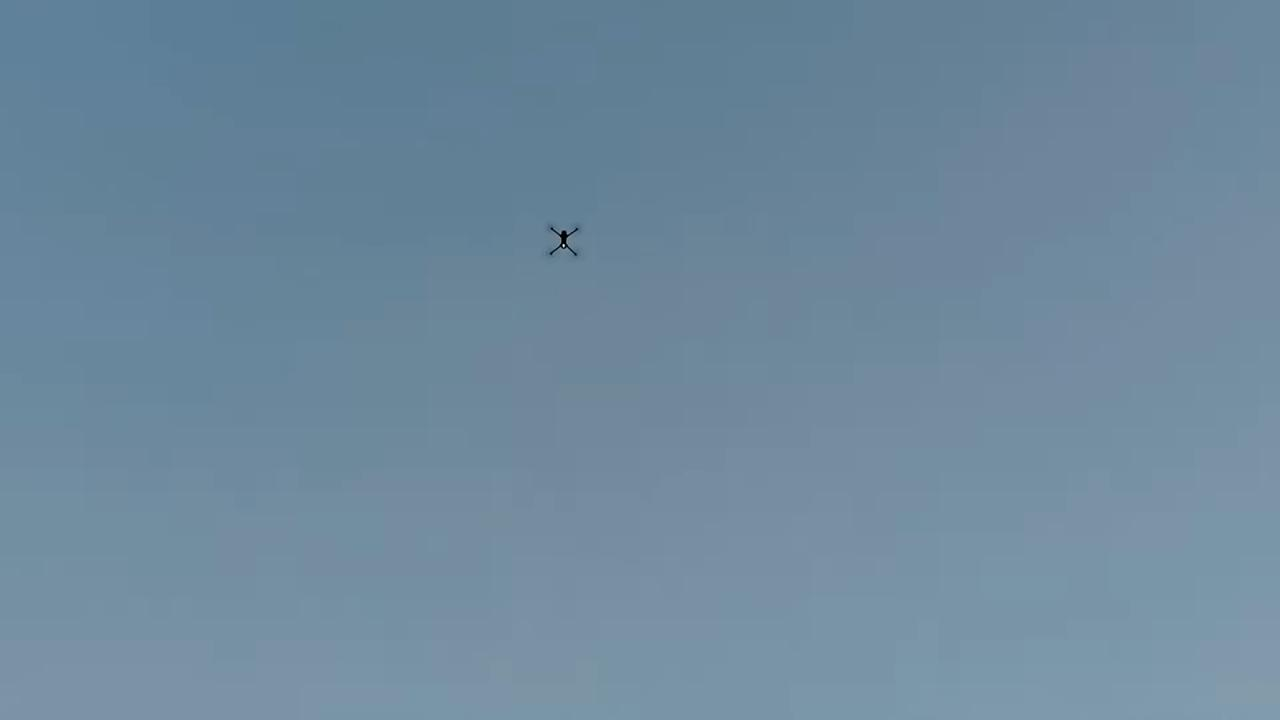Drone: (531, 209, 595, 272)
